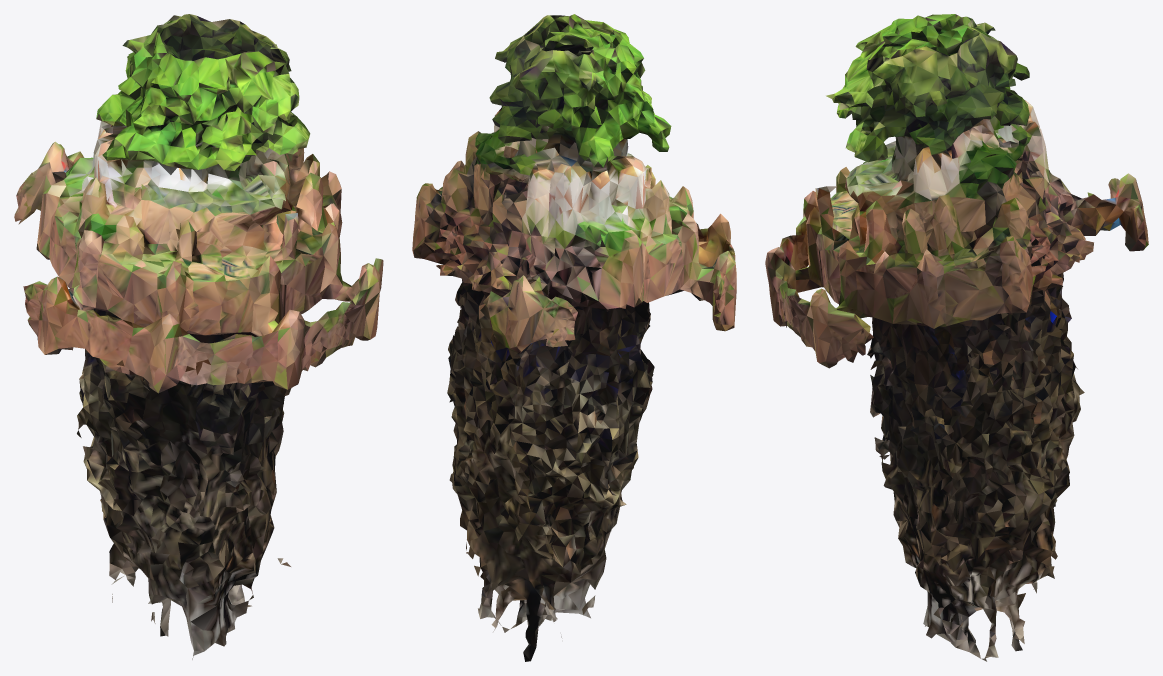
Rendered from chateau-laputa.glb.
3 views of the same model, side by side, from view 1: azimuth 30°, elevation 25°; view 2: azimuth 150°, elevation 25°; view 3: azimuth 270°, elevation 25° (orthographic). The views are drawn at different scales.
Parts seen in each view (by area): view 1: Object_2; view 2: Object_2; view 3: Object_2.
Boxes of the visible parts, x1,y1,x2,y2 form: Object_2: (14, 14, 383, 659); Object_2: (412, 14, 736, 661); Object_2: (765, 14, 1148, 661).
Size of the model in its own units: 1.06 by 2.05 by 1.15.
Materials: 1 (1 with a texture image).
